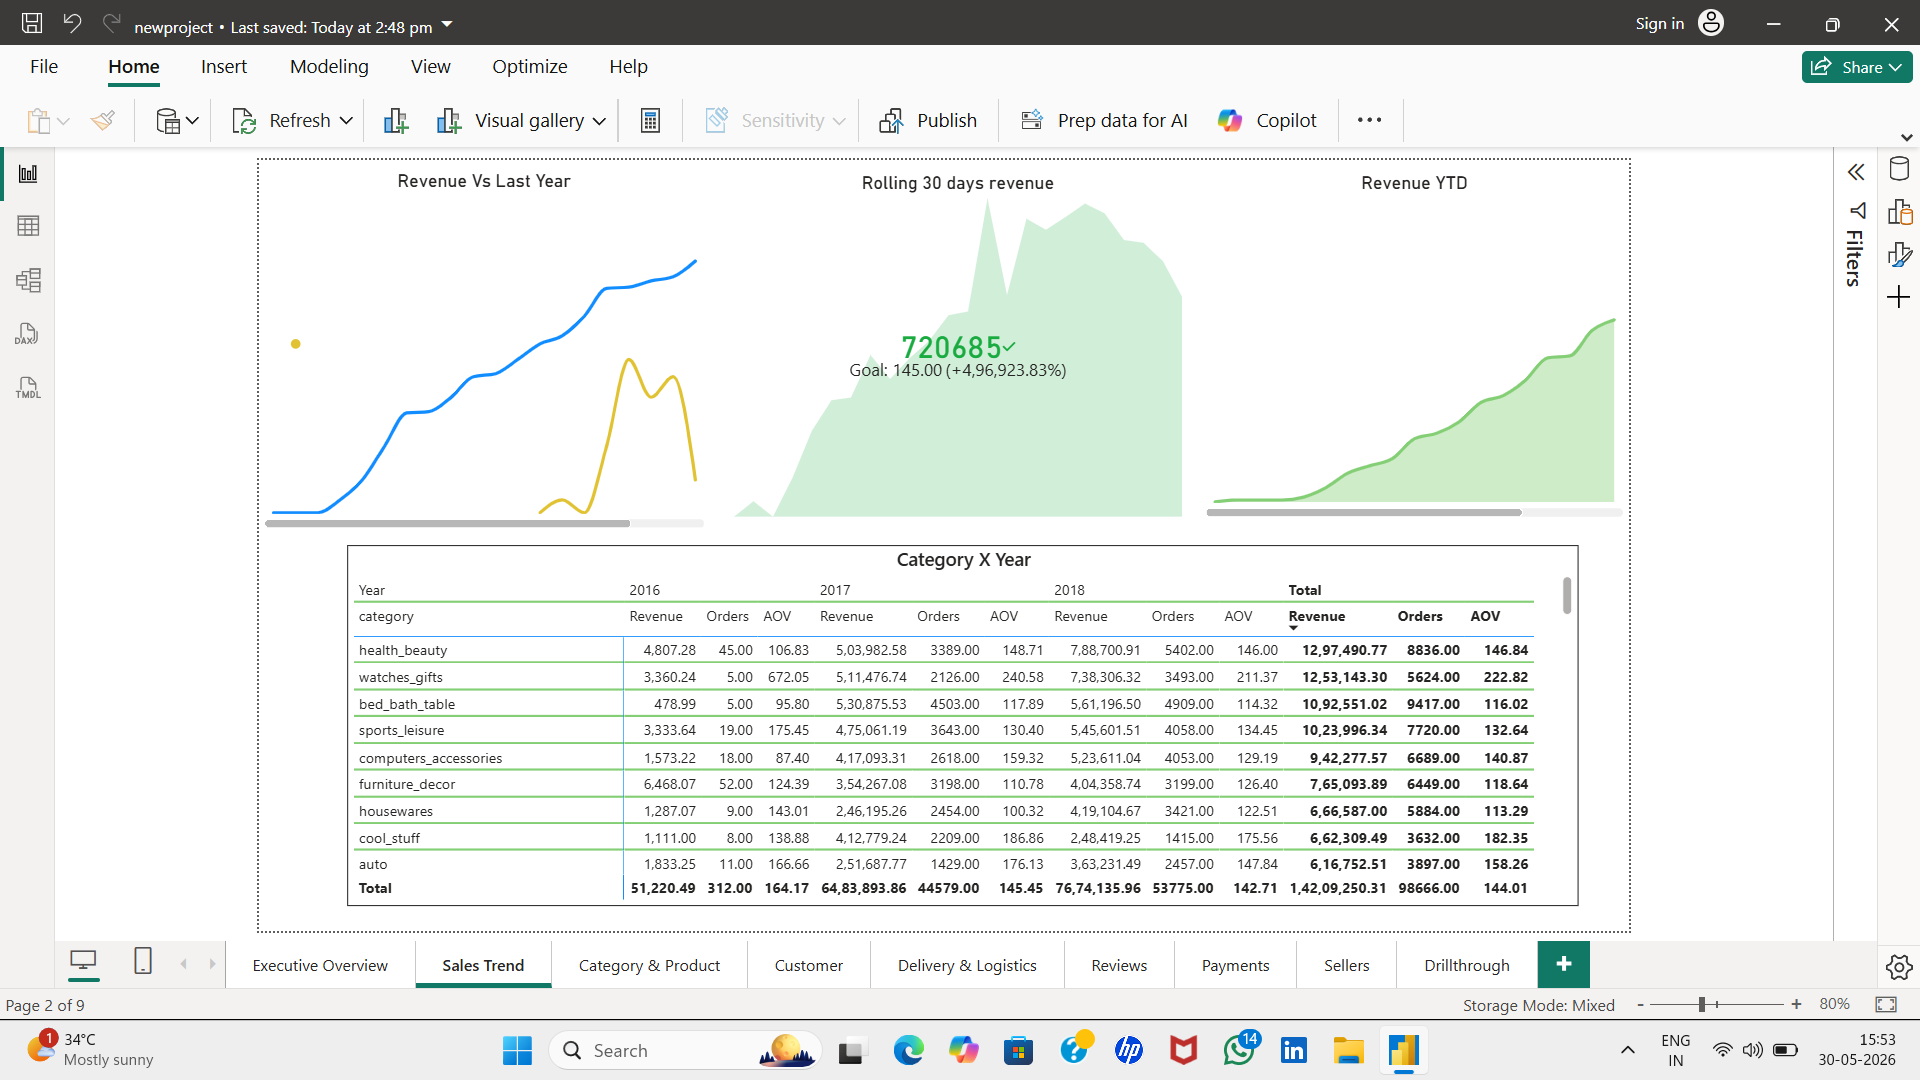

This screenshot's page, from the dashboard's own definition file:
{"tool":"powerbi","page":{"name":"Sales Trend","canvas":[1280,720],"ordinal":1},"visuals":[{"type":"lineChart","title":"Revenue Vs Last Year","fields":{"Category":["DimDate.Year-Month"],"Y":["public bi_fact_sales.Revenue","public bi_fact_sales.Revenue LY"]},"box":[0,10.5,420.9,338.5],"z":0},{"type":"kpi","title":"Rolling 30 days revenue","fields":{"TrendLine":["DimDate.Year-Month"],"Indicator":["public bi_fact_sales.Rolling 30D Revenue"],"Goal":["public bi_fact_sales.Revenue"]},"box":[438.9,11.1,429.1,327],"z":1000},{"type":"stackedAreaChart","title":"Revenue YTD","fields":{"Category":["DimDate.Year-Month"],"Y":["public bi_fact_sales.Revenue YTD"]},"box":[880.3,11.1,399.6,327],"z":2000},{"type":"pivotTable","title":"Category X Year","fields":{"Rows":["public bi_fact_sales.category"],"Values":["public bi_fact_sales.Revenue","public bi_fact_sales.Orders","public bi_fact_sales.AOV"],"Columns":["DimDate.Year"]},"box":[82,360.2,1150.6,337.4],"z":3000}]}

Visuals, with their boxes on the page's 1280x720 design canvas (x1, y1, x2, y2). These are canvas units, not pixel positions in the 1920x1080 screenshot, which may show the page scaled, cropped or inside an application window:
"Revenue Vs Last Year" lineChart: locate(0, 10, 421, 349)
"Rolling 30 days revenue" kpi: locate(439, 11, 868, 338)
"Revenue YTD" stackedAreaChart: locate(880, 11, 1280, 338)
"Category X Year" pivotTable: locate(82, 360, 1233, 698)
